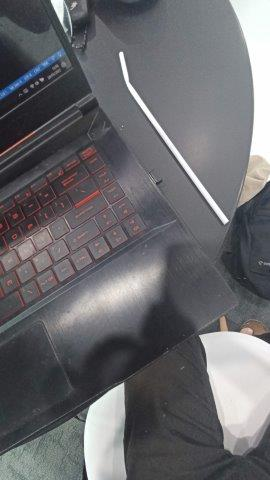sedotan: (119, 52, 230, 226)
